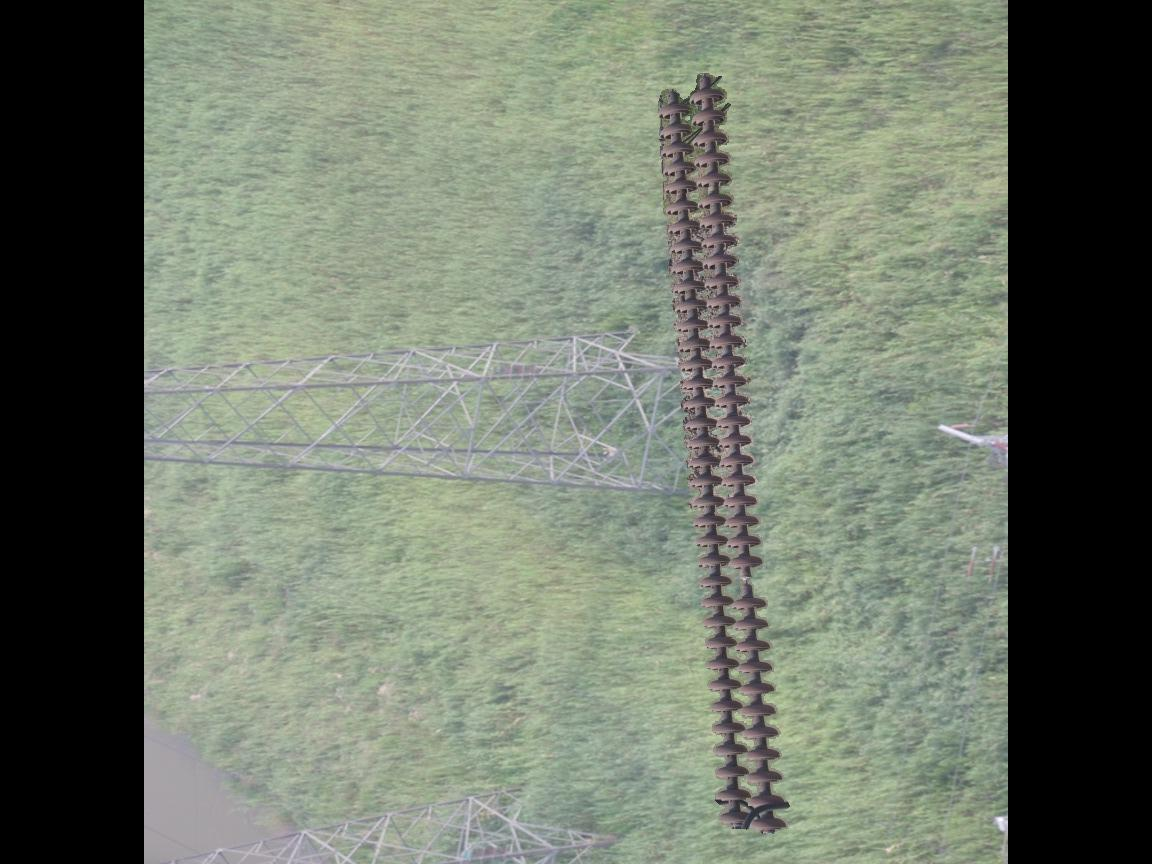insulator: (653, 73, 793, 840)
insulator_stringdrop: (724, 550, 772, 615)
